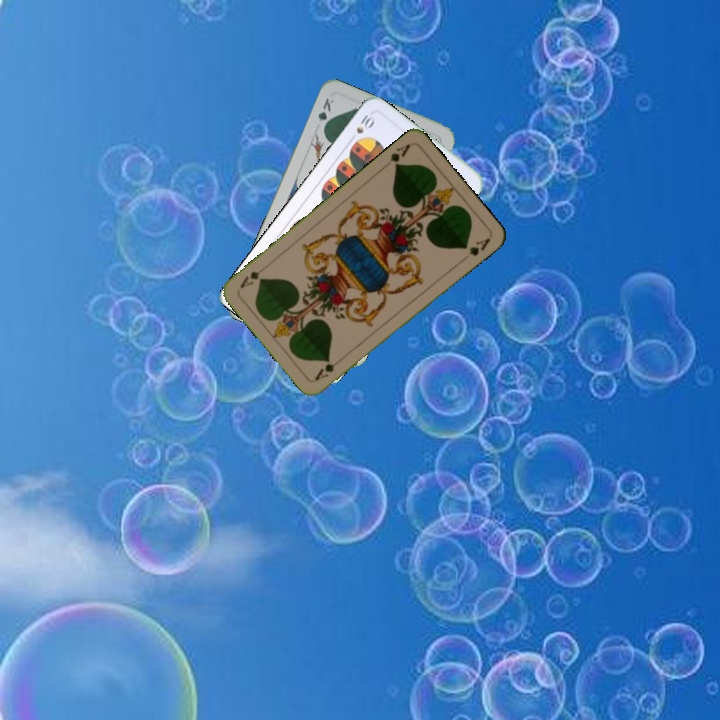GA: (310, 353, 345, 384), (386, 139, 413, 170)
GK: (314, 94, 337, 133)
S10: (346, 109, 378, 144)
